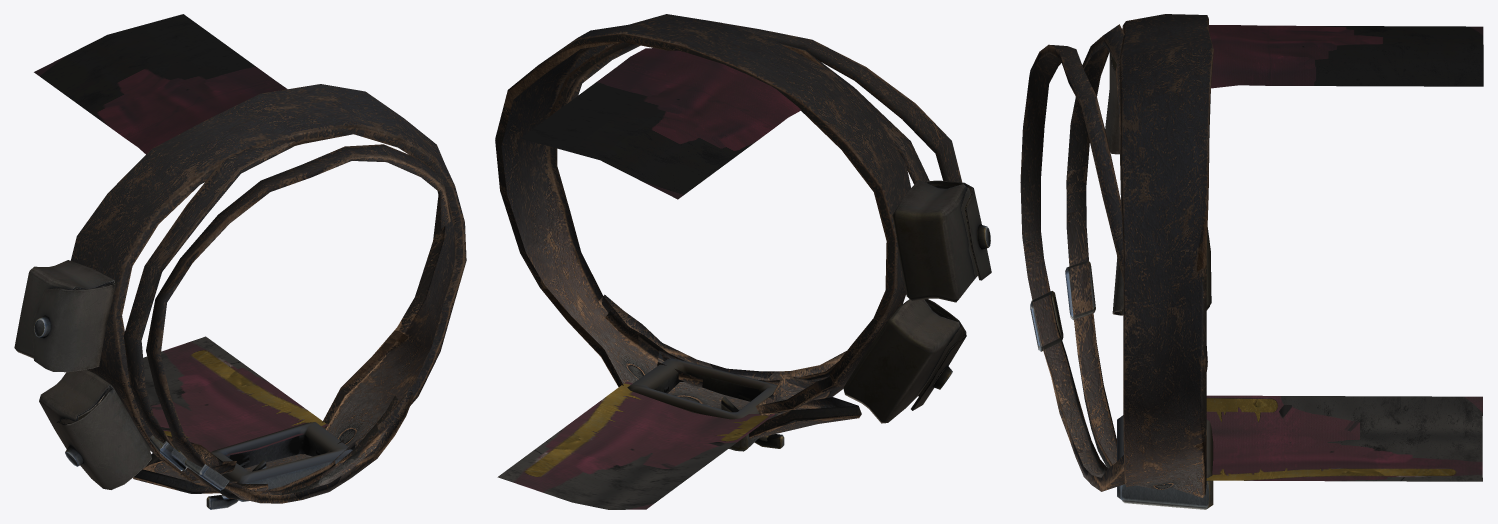
The model's file is sm_dwarf_varnaic_belt.gltf.
3 renders of one model, left to right at view 1: azimuth 30°, elevation 25°; view 2: azimuth 150°, elevation 25°; view 3: azimuth 270°, elevation 25°, orthographic. The views are drawn at different scales.
Visible parts, largest first — view 1: sm_dwarf_varnaic_belt; view 2: sm_dwarf_varnaic_belt; view 3: sm_dwarf_varnaic_belt.
Boxes of the visible parts, x1=… form: sm_dwarf_varnaic_belt: x1=14, y1=14, x2=466, y2=509; sm_dwarf_varnaic_belt: x1=495, y1=14, x2=991, y2=509; sm_dwarf_varnaic_belt: x1=1020, y1=14, x2=1483, y2=509.
Size of the model in its own units: 64 by 53.34 by 49.84.
